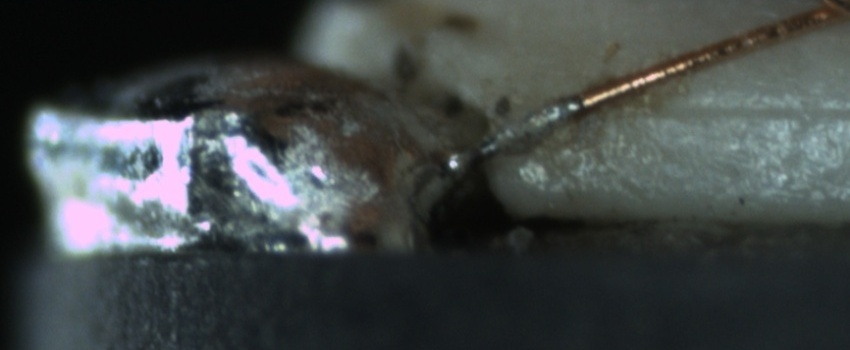CL: (790, 0, 850, 30)
DL: (620, 75, 848, 146)
TS: (439, 101, 583, 173)
TTCW: (445, 79, 610, 175)
